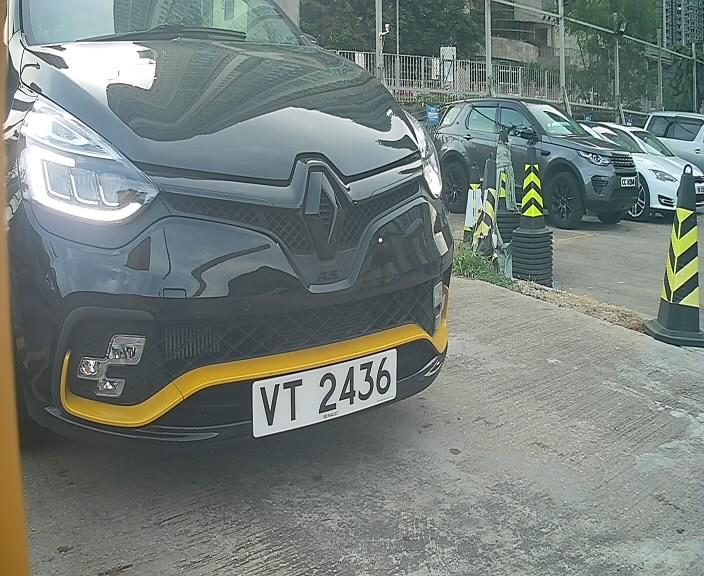License Plate: (246, 343, 403, 438)
